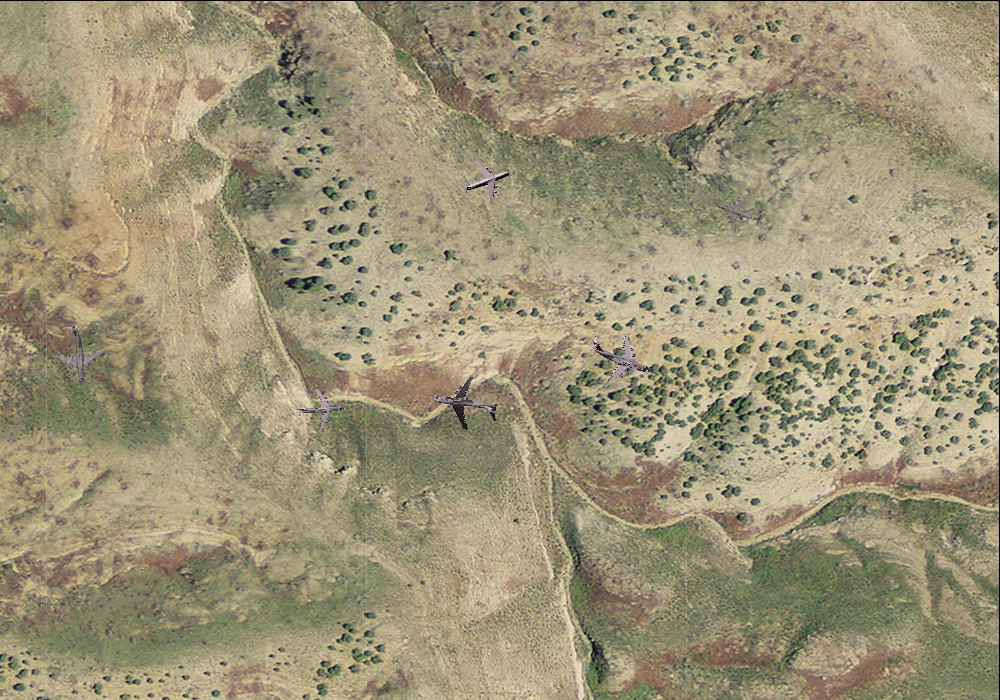plane: (579, 317, 662, 396), (429, 371, 501, 439), (45, 321, 109, 388), (452, 149, 517, 212), (711, 185, 768, 240), (294, 383, 346, 434)
